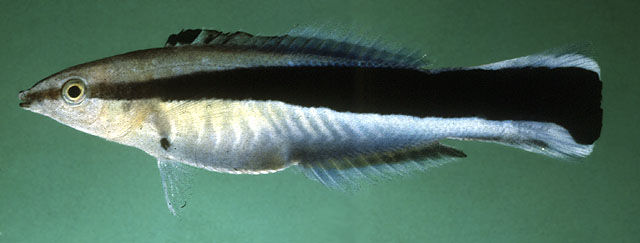fish: (17, 20, 605, 217)
